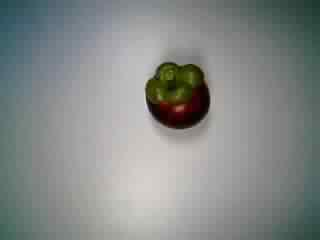mangosteen: (137, 59, 215, 131)
